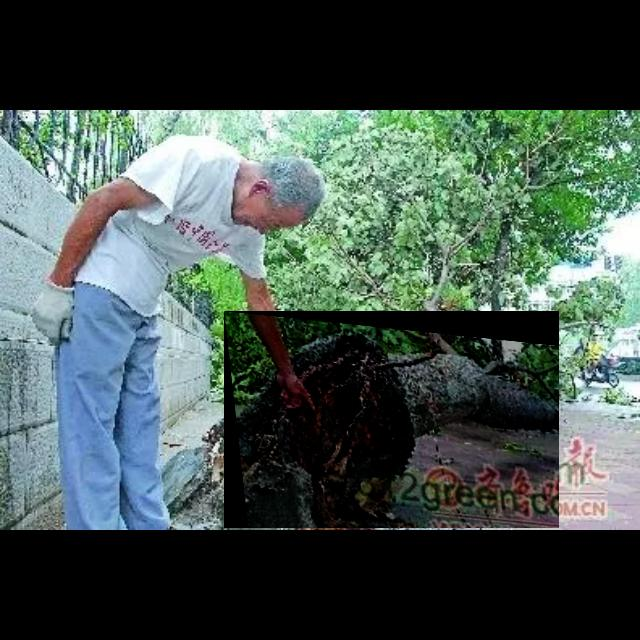Fallen Tree: (224, 311, 560, 529)
